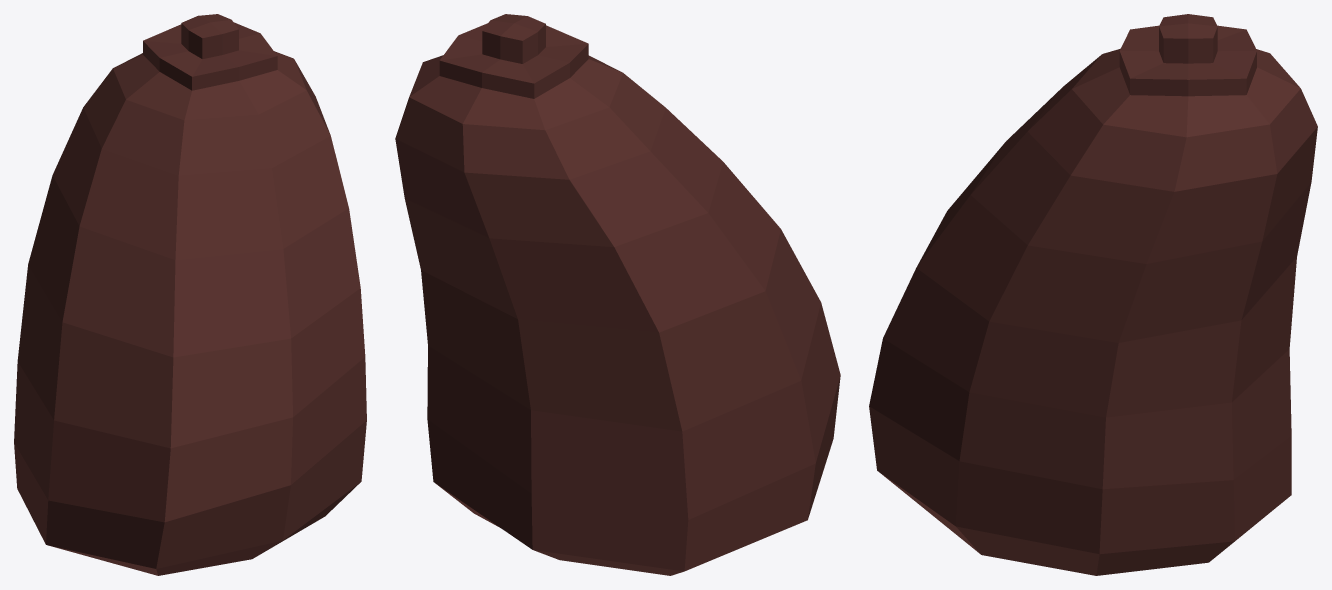
File: AshBag.fbx
3 renders of one model, left to right at view 1: azimuth 30°, elevation 25°; view 2: azimuth 150°, elevation 25°; view 3: azimuth 270°, elevation 25°, orthographic. The views are drawn at different scales.
Visible parts, largest first — view 1: AshBagTemp; view 2: AshBagTemp; view 3: AshBagTemp.
Boxes of the visible parts, <box> form: AshBagTemp: <box>14,14,366,575</box>; AshBagTemp: <box>395,14,840,575</box>; AshBagTemp: <box>869,14,1317,575</box>.
Bounding box in the file's own units: 182 × 249 × 186.
